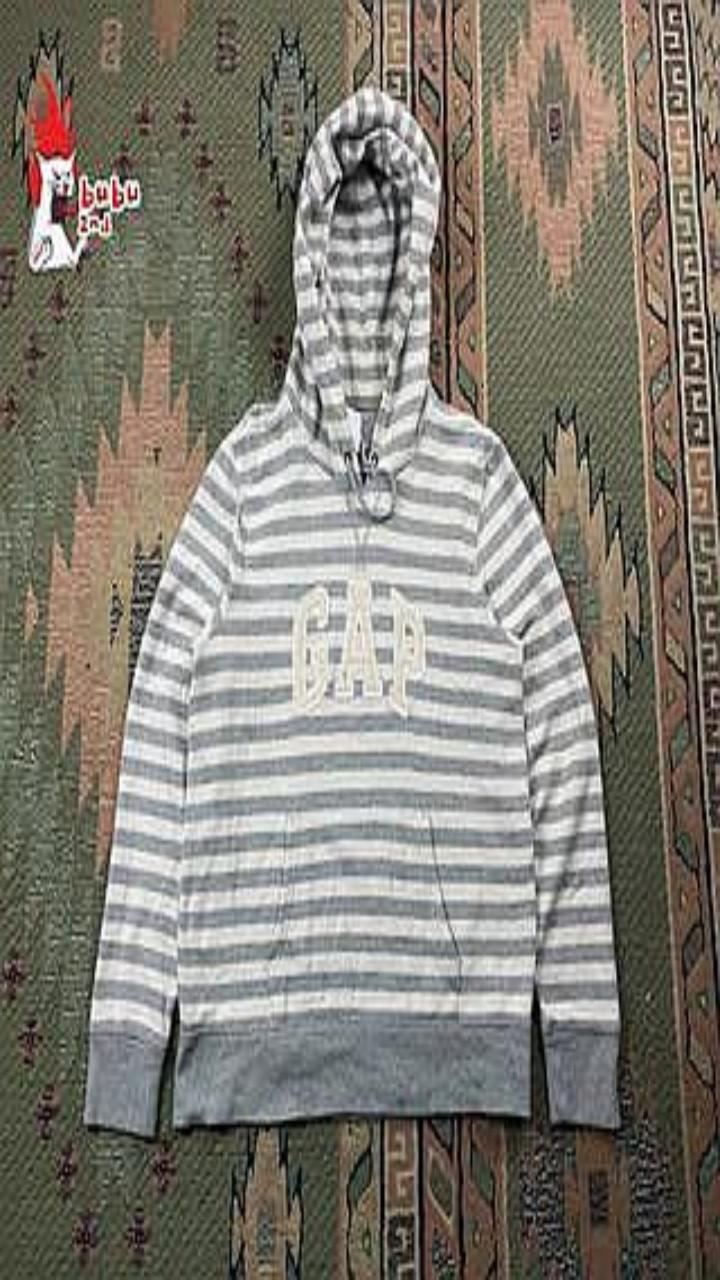Hoodie: (84, 88, 619, 1134)
